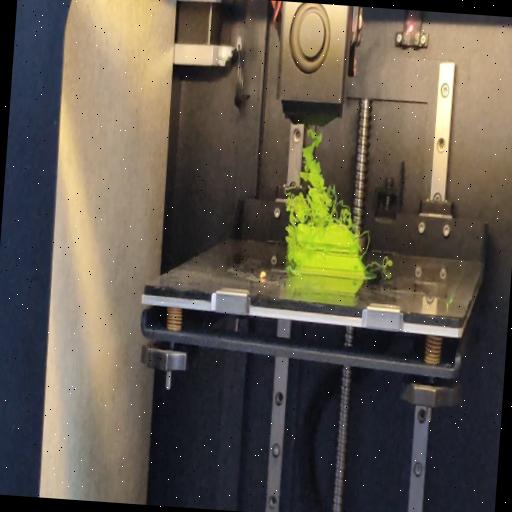spaghetti: (284, 122, 360, 230), (364, 256, 400, 279), (282, 228, 296, 280), (360, 225, 373, 254)
